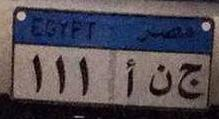1: (77, 54, 91, 99), (55, 55, 69, 94), (32, 54, 44, 94)
alif: (124, 57, 137, 97)
jeem: (176, 59, 204, 104)
noon: (148, 61, 172, 97)
